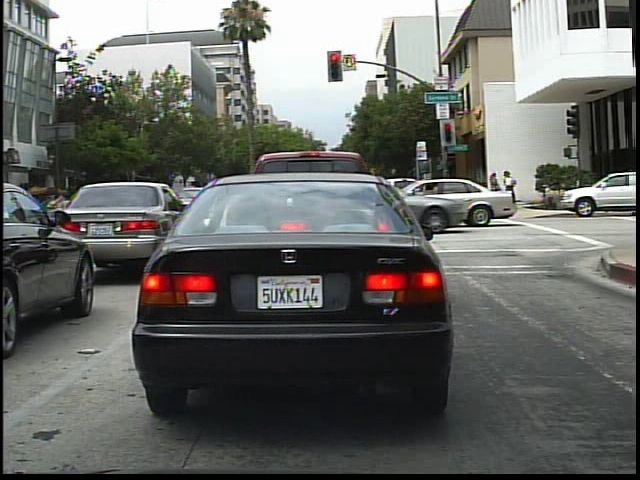person: (52, 175, 88, 234), (499, 165, 520, 208), (482, 167, 503, 209)
